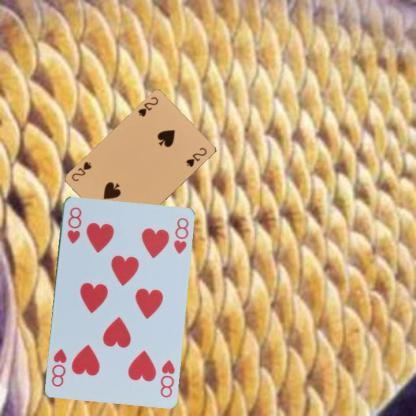2s: (136, 94, 160, 119)
8h: (157, 357, 176, 399), (64, 204, 83, 244)
